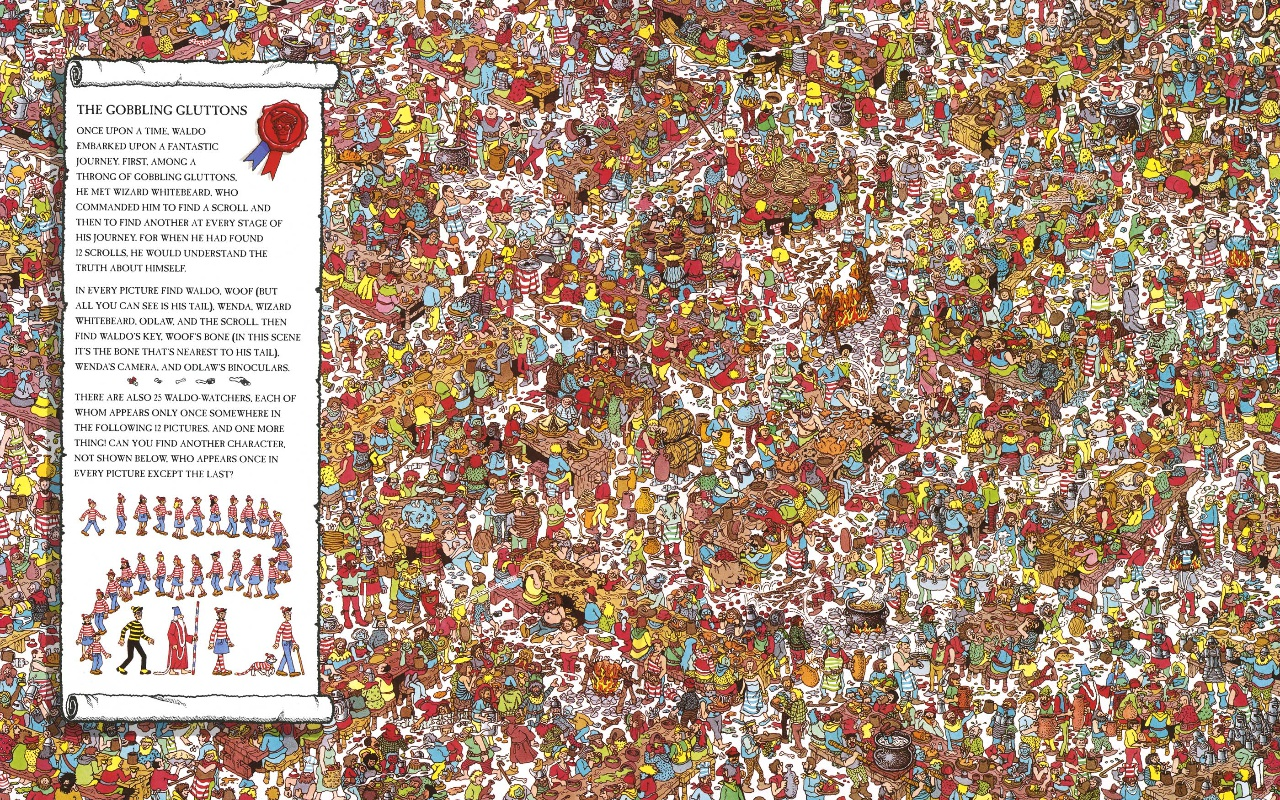waldo: (724, 269, 739, 305)
